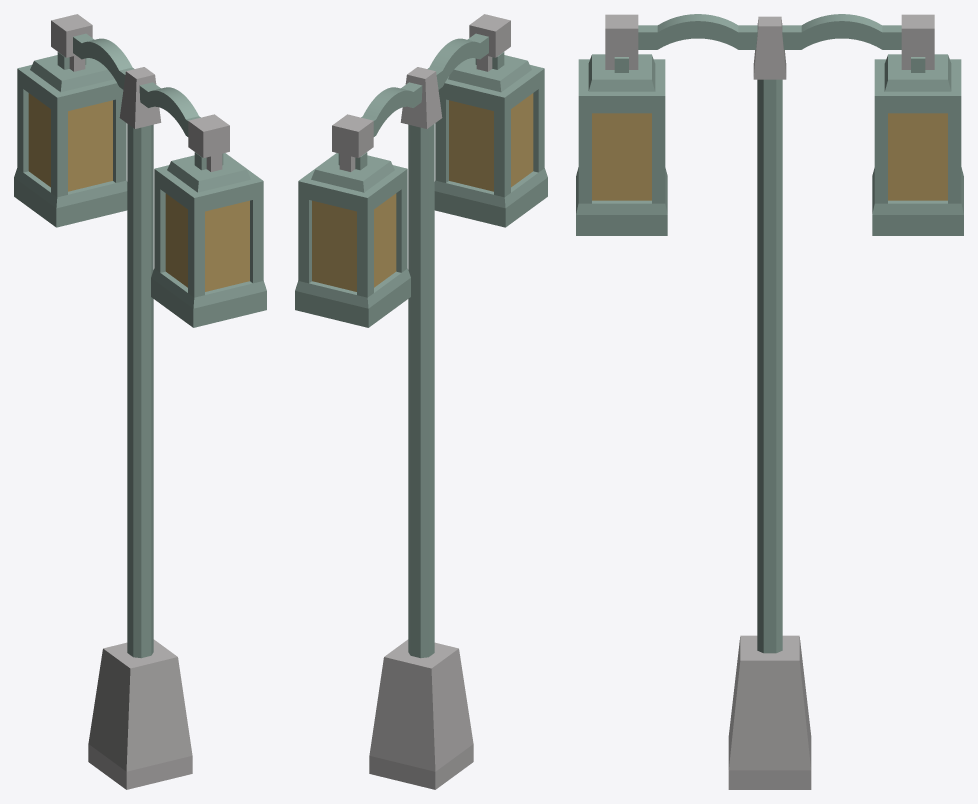
Rendered from gy_lantern.glb.
3 views of the same model, side by side, from view 1: azimuth 30°, elevation 25°; view 2: azimuth 150°, elevation 25°; view 3: azimuth 270°, elevation 25° (orthographic). The views are drawn at different scales.
Visible parts, largest first — view 1: gy_lantern2; view 2: gy_lantern2; view 3: gy_lantern2.
Part boxes in pixels (x1,y1,x2,y2): gy_lantern2: (14,14,266,789); gy_lantern2: (295,14,547,789); gy_lantern2: (576,14,963,789).
Size of the model in its own units: 0.2862 by 2.6 by 1.21.
